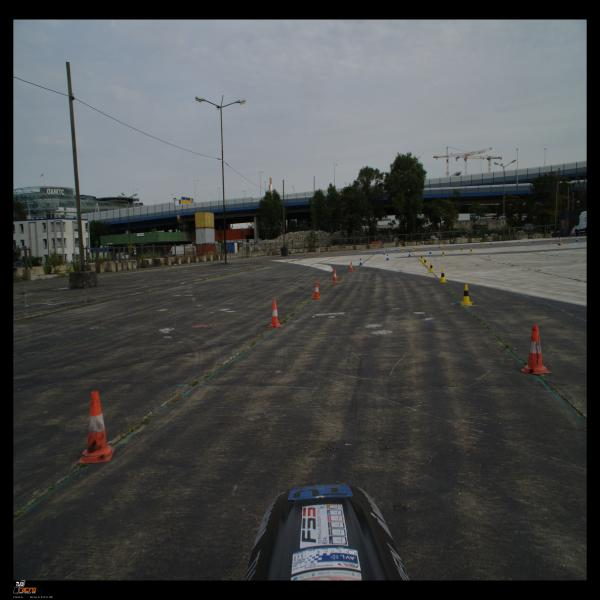blue_cone: (359, 258, 362, 266), (386, 254, 389, 260), (408, 251, 411, 257), (437, 244, 441, 248), (429, 249, 432, 254), (383, 250, 385, 255), (490, 241, 492, 246), (376, 249, 378, 253), (576, 238, 578, 242), (532, 240, 534, 243), (396, 248, 398, 250)
large_orange_cone: (558, 238, 562, 246)
orange_cone: (77, 390, 116, 464), (520, 325, 552, 374), (268, 300, 283, 328), (312, 281, 321, 300), (332, 269, 338, 283), (349, 262, 354, 272)
yellow_cone: (461, 284, 472, 305), (439, 269, 447, 283), (429, 262, 434, 272), (423, 258, 427, 266), (420, 254, 424, 262), (548, 240, 552, 244), (442, 244, 446, 248), (460, 247, 463, 252), (401, 248, 404, 252), (417, 248, 420, 252), (442, 250, 444, 256), (481, 242, 484, 246), (470, 248, 472, 253), (518, 240, 520, 245), (412, 247, 415, 250)
